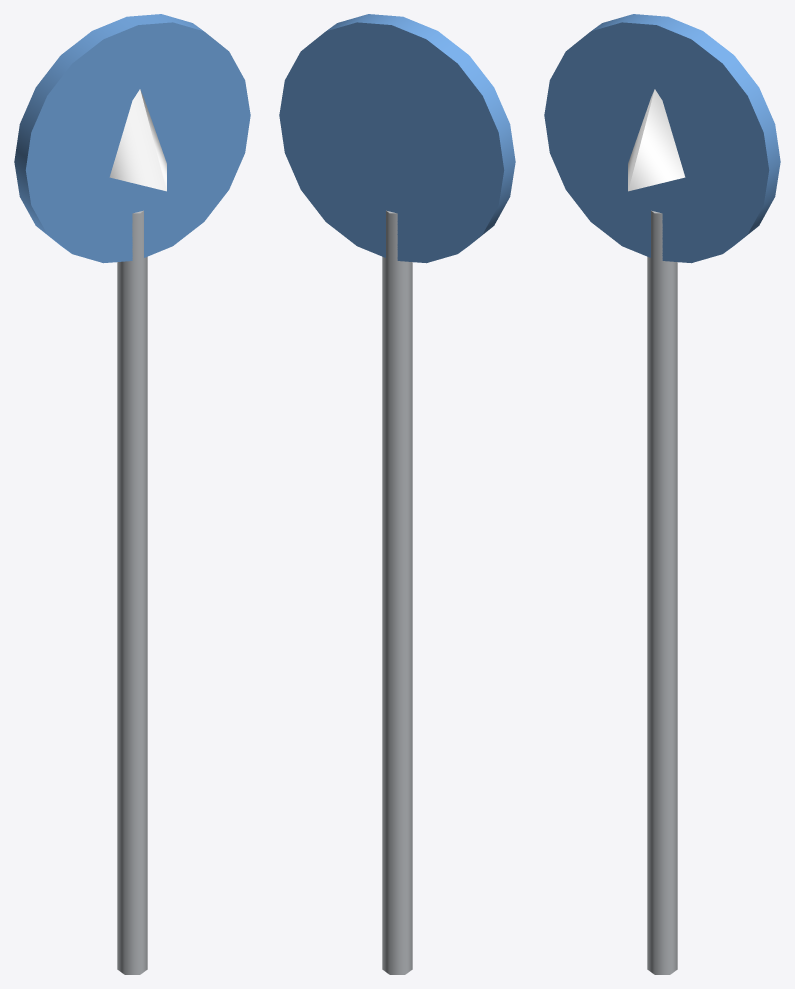
File: rambu1.glb
The picture shows the model from 3 angles, left to right: view 1: azimuth 30°, elevation 25°; view 2: azimuth 150°, elevation 25°; view 3: azimuth 330°, elevation 25°; orthographic projection.
Visible parts, largest first — view 1: rambu1; view 2: rambu1; view 3: rambu1.
Part boxes in pixels (x1,y1,x2,y2): rambu1: (14, 14, 250, 974); rambu1: (279, 14, 515, 974); rambu1: (544, 14, 780, 974).
Size of the model in its own units: 0.34 by 1.37 by 0.11.
